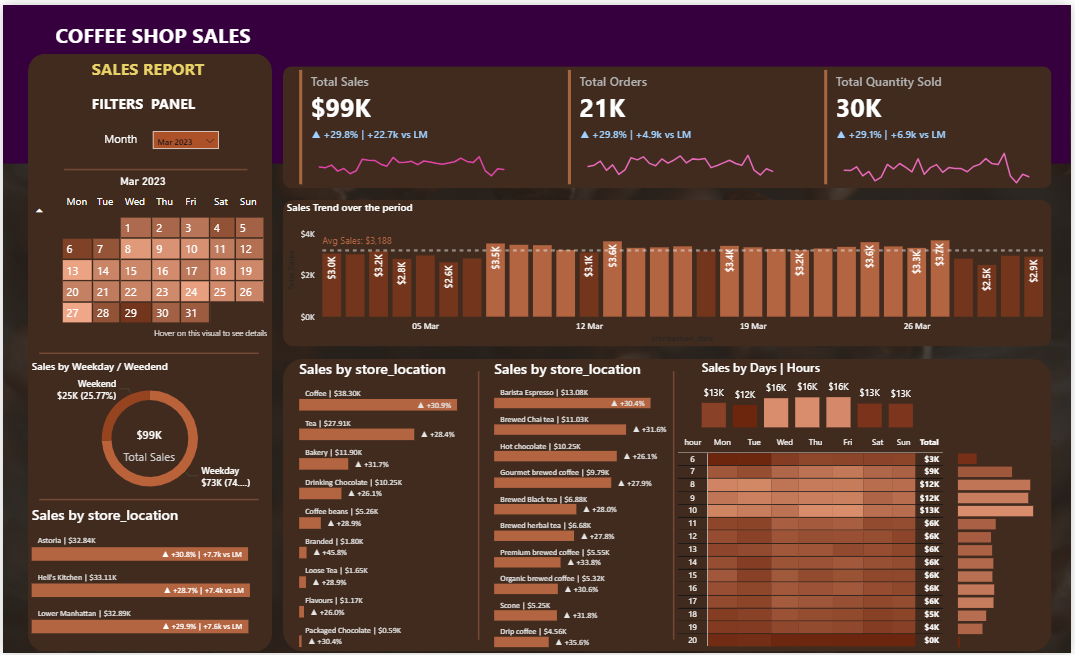

The dashboard page shown, as its layout file describes it:
{"tool":"powerbi","page":{"name":"Page 1","canvas":[1400,850],"ordinal":0},"visuals":[{"type":"shape","box":[368,464,1008,384],"z":0},{"type":"shape","box":[-8,0,1408,208],"z":1000},{"type":"shape","box":[32,64,320,784],"z":2000},{"type":"shape","box":[368,80,1008,160],"z":3000},{"type":"textbox","box":[128,160,64,32],"z":4000},{"type":"cardVisual","fields":{"Data":["Transactions.Total Sales"]},"box":[384,80,288,160],"z":5000},{"type":"slicer","fields":{"Values":["Date Table.Month Year"]},"box":[192,160,96,32],"z":6000},{"type":"lineChart","fields":{"Category":["Date Table.Date Hierarchy.Date"],"Y":["Transactions.Total Sales"]},"box":[400,160,272,80],"z":7000},{"type":"cardVisual","fields":{"Data":["Transactions.Total Orders"]},"box":[736,80,288,160],"z":8000},{"type":"lineChart","fields":{"Category":["Date Table.Date Hierarchy.Date"],"Y":["Transactions.Total Orders"]},"box":[752,160,272,80],"z":9000},{"type":"cardVisual","fields":{"Data":["Transactions.Total Quantity Sold"]},"box":[1072,80,288,160],"z":10000},{"type":"lineChart","fields":{"Category":["Date Table.Date Hierarchy.Date"],"Y":["Transactions.Total Quantity Sold"]},"box":[1088,160,272,80],"z":11000},{"type":"pivotTable","fields":{"Rows":["Date Table.Week Number"],"Columns":["Date Table.Day Name"],"Values":["Min(Date Table.Day Number)"]},"box":[32,240,320,192],"z":12000},{"type":"card","fields":{"Values":["Min(Date Table.Month Year)"]},"box":[128,208,112,48],"z":13000},{"type":"card","fields":{"Values":["Transactions.Foot Note"]},"box":[160,416,224,32],"z":14000},{"type":"shape","box":[48,432,288,48],"z":15000},{"type":"shape","box":[80,192,240,48],"z":16000},{"type":"donutChart","title":"Sales by Weekday / Weedend","fields":{"Category":["Date Table.Weekday / Weedend"],"Y":["Transactions.Total Sales"]},"box":[32,464,320,192],"z":17000},{"type":"card","fields":{"Values":["Transactions.Total Sales"]},"box":[128,544,128,64],"z":18000},{"type":"shape","box":[48,624,288,48],"z":19000},{"type":"shape","box":[368,256,1008,192],"z":20000},{"type":"clusteredColumnChart","title":"Sales Trend over the period ","fields":{"Category":["Transactions.transaction_date"],"Y":["Transactions.Total Sales"]},"box":[368,256,1008,192],"z":21000},{"type":"clusteredBarChart","title":" Sales by store_location","fields":{"Category":["Transactions.store_location"],"Y":["Transactions.PlaceHolder","Transactions.Total Sales"]},"box":[32,656,320,176],"z":22000},{"type":"clusteredBarChart","title":" Sales by store_location","fields":{"Y":["Transactions.PlaceHolder","Transactions.Total Sales"],"Category":["Transactions.product_category"]},"box":[384,464,240,384],"z":23000},{"type":"shape","box":[592,480,64,352],"z":24000},{"type":"clusteredBarChart","title":" Sales by store_location","fields":{"Y":["Transactions.PlaceHolder","Transactions.Total Sales"],"Category":["Transactions.product_type"]},"box":[640,464,240,384],"z":25000},{"type":"shape","box":[848,480,64,352],"z":26000},{"type":"pivotTable","fields":{"Rows":["Transactions.hour"],"Columns":["Date Table.Day Name"],"Values":["Transactions.Total Sales"]},"box":[880,560,368,288],"z":27000},{"type":"barChart","fields":{"Category":["Transactions.hour"],"Y":["Transactions.Total Sales"]},"box":[1248,576,128,272],"z":28000},{"type":"columnChart","title":"Sales by Days | Hours","fields":{"Y":["Transactions.Total Sales"],"Category":["Date Table.Day Name"]},"box":[912,464,288,96],"z":29000},{"type":"textbox","box":[64,16,336,48],"z":30000},{"type":"textbox","box":[112,64,192,48],"z":31000},{"type":"textbox","box":[112,112,192,48],"z":32000}]}

Visuals, with their boxes in screenshot pixels (x1, y1, x2, y2), scaled from the page's 1400x850 canvas onto the 1075x655 screenshot:
shape: <bbox>283, 358, 1057, 653</bbox>
shape: <bbox>0, 0, 1074, 160</bbox>
shape: <bbox>25, 49, 270, 653</bbox>
shape: <bbox>283, 62, 1057, 185</bbox>
textbox: <bbox>98, 123, 147, 148</bbox>
cardVisual - Transactions.Total Sales: <bbox>295, 62, 516, 185</bbox>
slicer - Date Table.Month Year: <bbox>147, 123, 221, 148</bbox>
lineChart - Date Table.Date Hierarchy.Date x Transactions.Total Sales: <bbox>307, 123, 516, 185</bbox>
cardVisual - Transactions.Total Orders: <bbox>565, 62, 786, 185</bbox>
lineChart - Date Table.Date Hierarchy.Date x Transactions.Total Orders: <bbox>577, 123, 786, 185</bbox>
cardVisual - Transactions.Total Quantity Sold: <bbox>823, 62, 1044, 185</bbox>
lineChart - Date Table.Date Hierarchy.Date x Transactions.Total Quantity Sold: <bbox>835, 123, 1044, 185</bbox>
pivotTable - Date Table.Week Number x Date Table.Day Name: <bbox>25, 185, 270, 333</bbox>
card - Min(Date Table.Month Year): <bbox>98, 160, 184, 197</bbox>
card - Transactions.Foot Note: <bbox>123, 321, 295, 345</bbox>
shape: <bbox>37, 333, 258, 370</bbox>
shape: <bbox>61, 148, 246, 185</bbox>
"Sales by Weekday / Weedend" donutChart: <bbox>25, 358, 270, 506</bbox>
card - Transactions.Total Sales: <bbox>98, 419, 197, 469</bbox>
shape: <bbox>37, 481, 258, 518</bbox>
shape: <bbox>283, 197, 1057, 345</bbox>
"Sales Trend over the period " clusteredColumnChart: <bbox>283, 197, 1057, 345</bbox>
" Sales by store_location" clusteredBarChart: <bbox>25, 506, 270, 641</bbox>
" Sales by store_location" clusteredBarChart: <bbox>295, 358, 479, 653</bbox>
shape: <bbox>455, 370, 504, 641</bbox>
" Sales by store_location" clusteredBarChart: <bbox>491, 358, 676, 653</bbox>
shape: <bbox>651, 370, 700, 641</bbox>
pivotTable - Transactions.hour x Date Table.Day Name: <bbox>676, 432, 958, 653</bbox>
barChart - Transactions.hour x Transactions.Total Sales: <bbox>958, 444, 1057, 653</bbox>
"Sales by Days | Hours" columnChart: <bbox>700, 358, 921, 432</bbox>
textbox: <bbox>49, 12, 307, 49</bbox>
textbox: <bbox>86, 49, 233, 86</bbox>
textbox: <bbox>86, 86, 233, 123</bbox>
